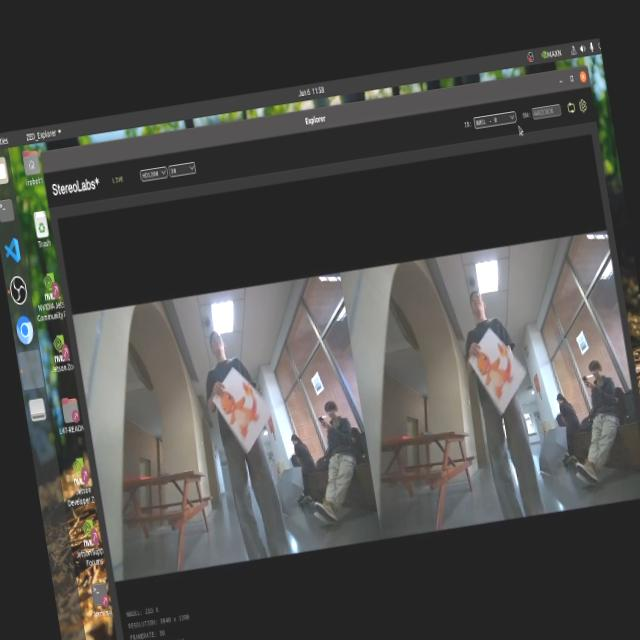red: (214, 370, 268, 452), (473, 330, 522, 408)
